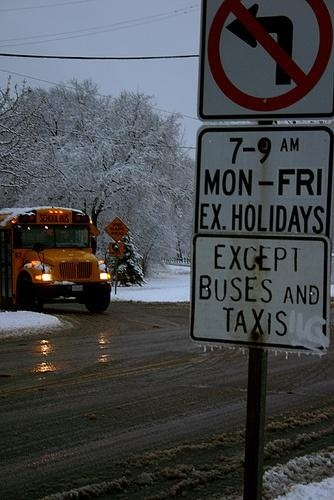bus: (1, 205, 113, 320)
